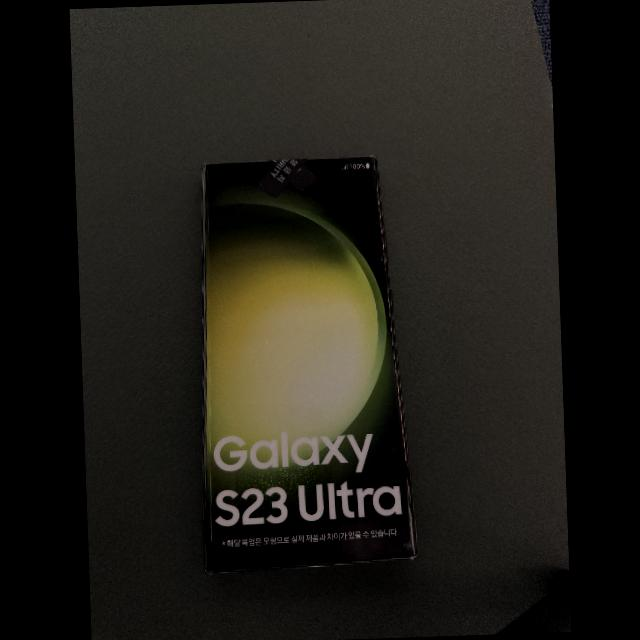phone: (202, 156, 417, 572)
sticker: (255, 158, 306, 197), (292, 166, 314, 190)
